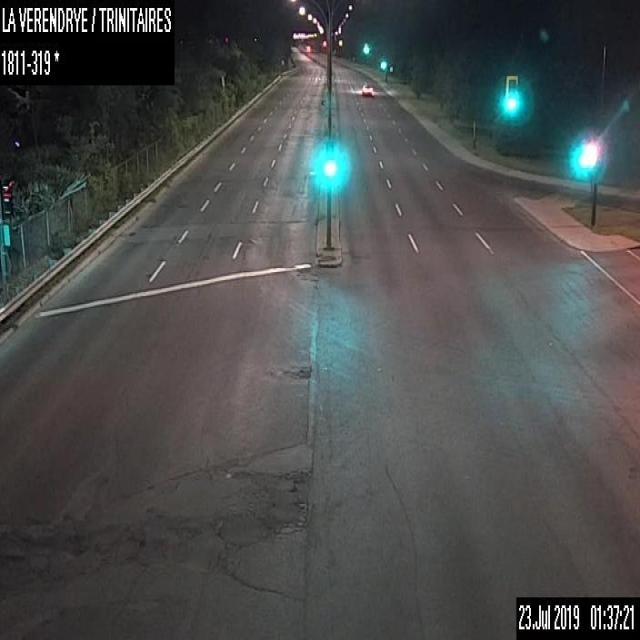vehicle: (360, 83, 373, 96)
